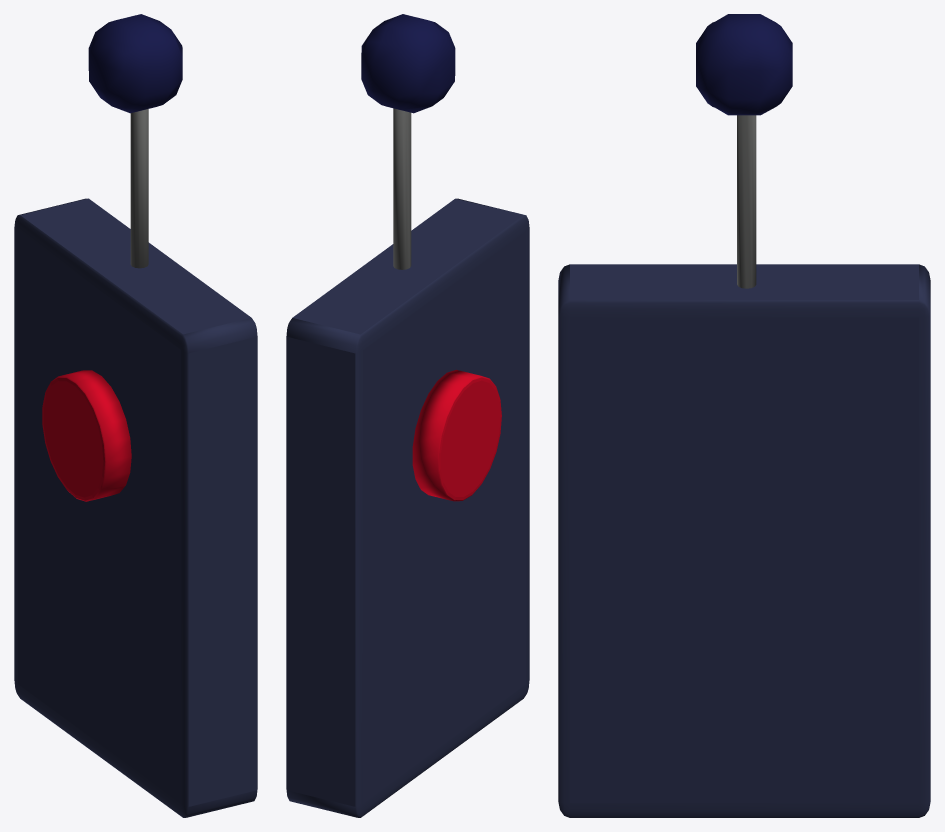
The model's file is Device.fbx.
3 renders of one model, left to right at view 1: azimuth 30°, elevation 25°; view 2: azimuth 150°, elevation 25°; view 3: azimuth 270°, elevation 25°, orthographic. The views are drawn at different scales.
Parts seen in each view (by area): view 1: Cube; view 2: Cube; view 3: Cube.
Boxes of the visible parts, x1,y1,x2,y2 form: Cube: (14, 14, 257, 817); Cube: (286, 14, 529, 817); Cube: (558, 14, 930, 817).
Size of the model in its own units: 0.4397 by 3.01 by 1.3.
